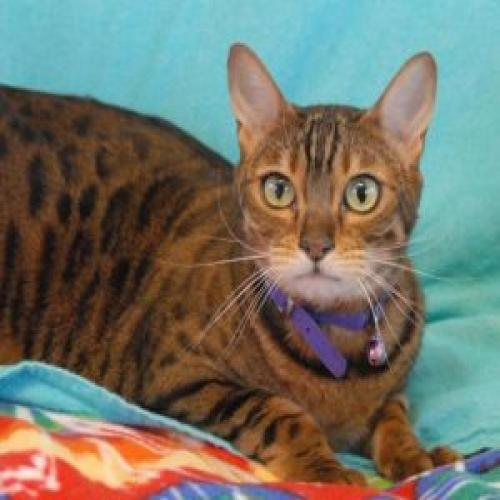bengal: (225, 42, 443, 299)
